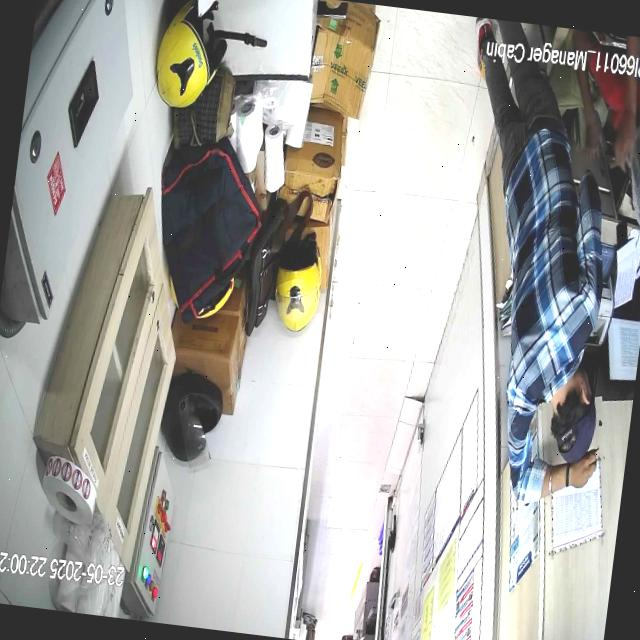helmet: (155, 0, 224, 107), (160, 373, 223, 469), (274, 250, 322, 333)
